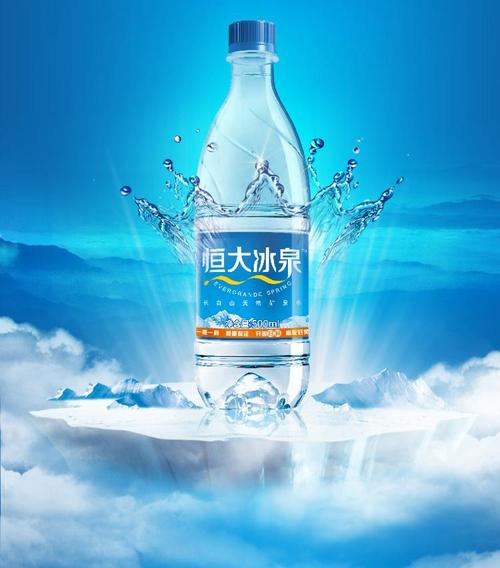恒大冰泉: (180, 6, 322, 429)
